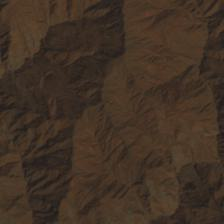landslides: (128, 38, 143, 47), (127, 211, 141, 219), (0, 183, 18, 189)
